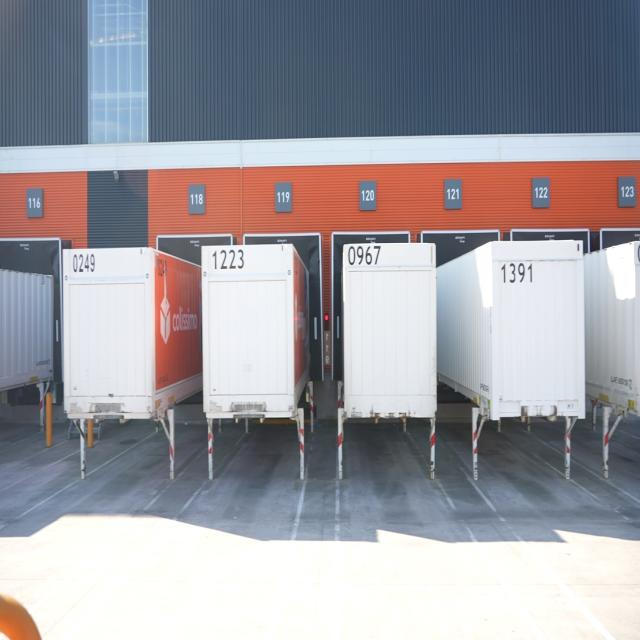Code: (208, 244, 250, 274), (347, 242, 389, 270), (496, 258, 536, 286), (67, 249, 98, 279)
